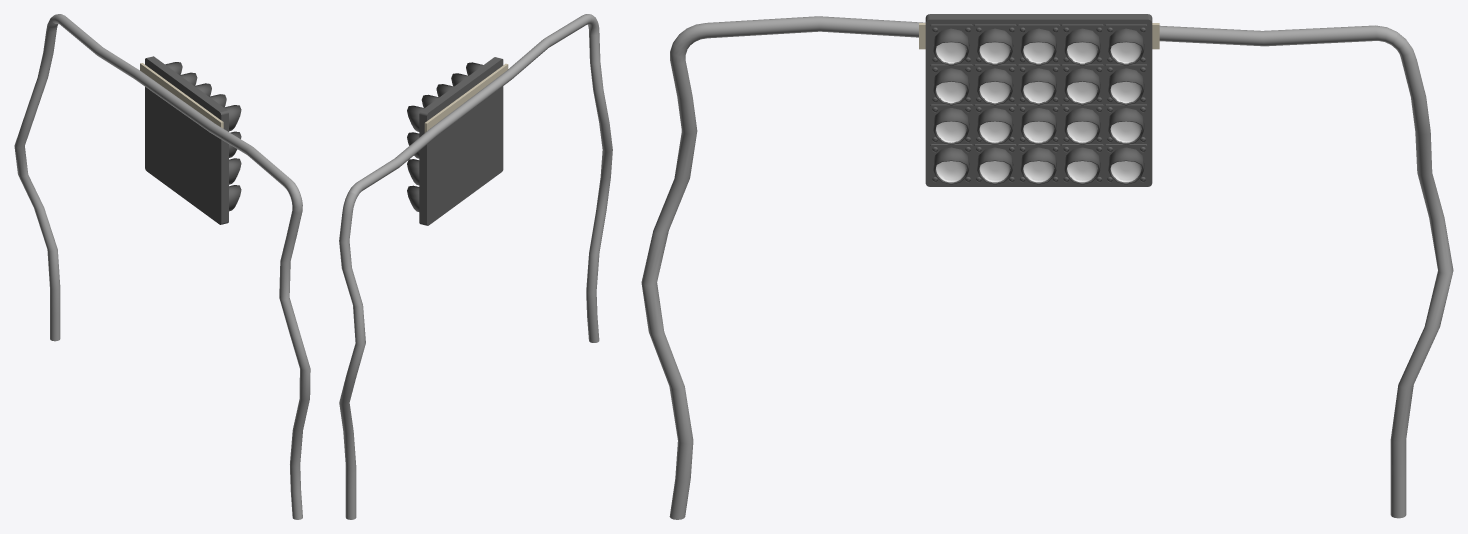
The model's file is EP_RaceLights-001.fbx.
The picture shows the model from 3 angles, left to right: view 1: azimuth 30°, elevation 25°; view 2: azimuth 150°, elevation 25°; view 3: azimuth 270°, elevation 25°; orthographic projection. The views are drawn at different scales.
Parts seen in each view (by area): view 1: RaceLights; view 2: RaceLights; view 3: RaceLights.
Boxes of the visible parts, x1,y1,x2,y2 form: RaceLights: (14,14,310,519); RaceLights: (339,14,612,519); RaceLights: (641,14,1453,519).
Size of the model in its own units: 240 by 1279 by 1854.
